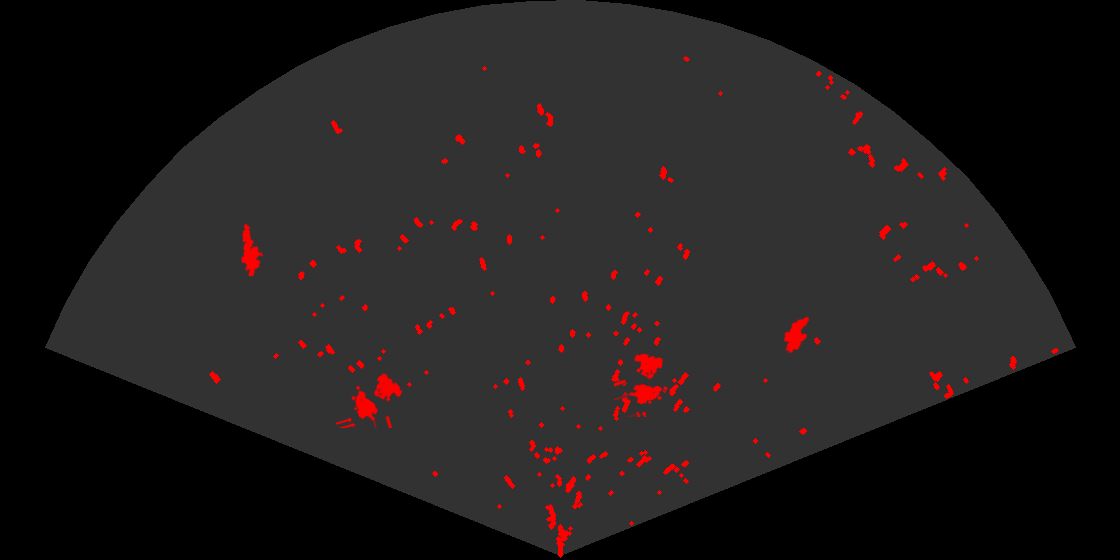AUV: (782, 315, 811, 355)
cage: (336, 372, 404, 428), (614, 352, 669, 417)
frogman: (239, 222, 265, 276)
